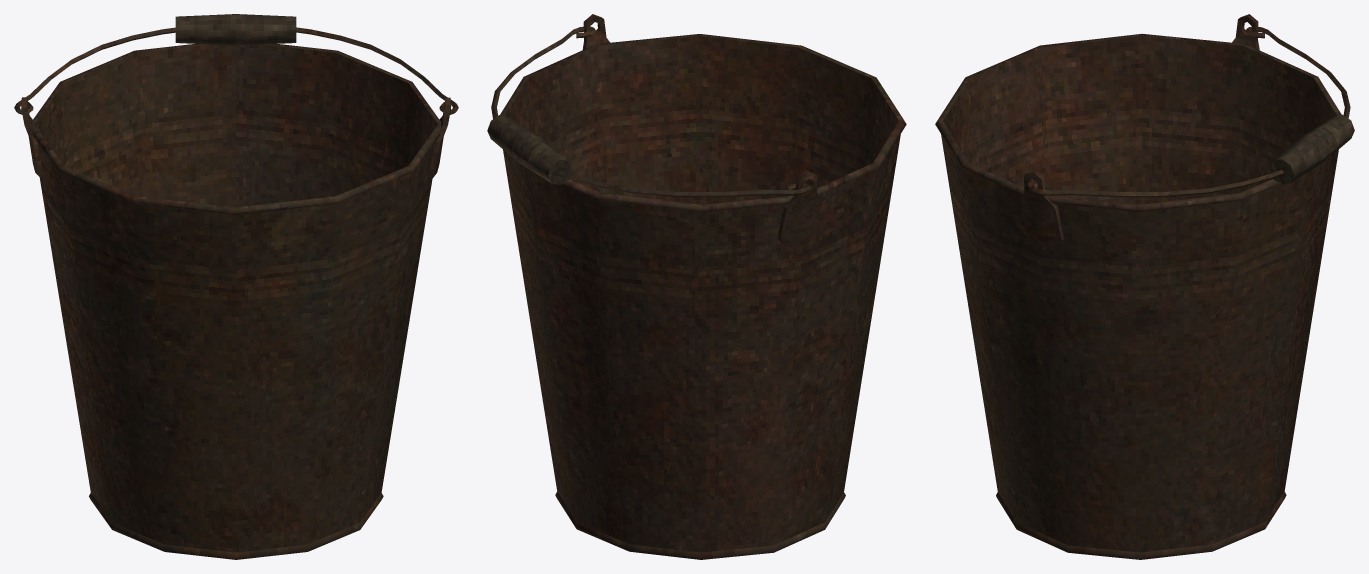
The model's file is bucket_mx_1.glb.
3 renders of one model, left to right at view 1: azimuth 30°, elevation 25°; view 2: azimuth 150°, elevation 25°; view 3: azimuth 270°, elevation 25°, orthographic.
Parts seen in each view (by area): view 1: bucket_mx_1; view 2: bucket_mx_1; view 3: bucket_mx_1.
Part boxes in pixels (left/top/right/bottom): bucket_mx_1: left=14, top=14, right=458, bottom=559; bucket_mx_1: left=487, top=14, right=906, bottom=559; bucket_mx_1: left=935, top=14, right=1354, bottom=559.
Size of the model in its own units: 0.43 by 0.4654 by 0.4359.
1 material, 1 textured.
